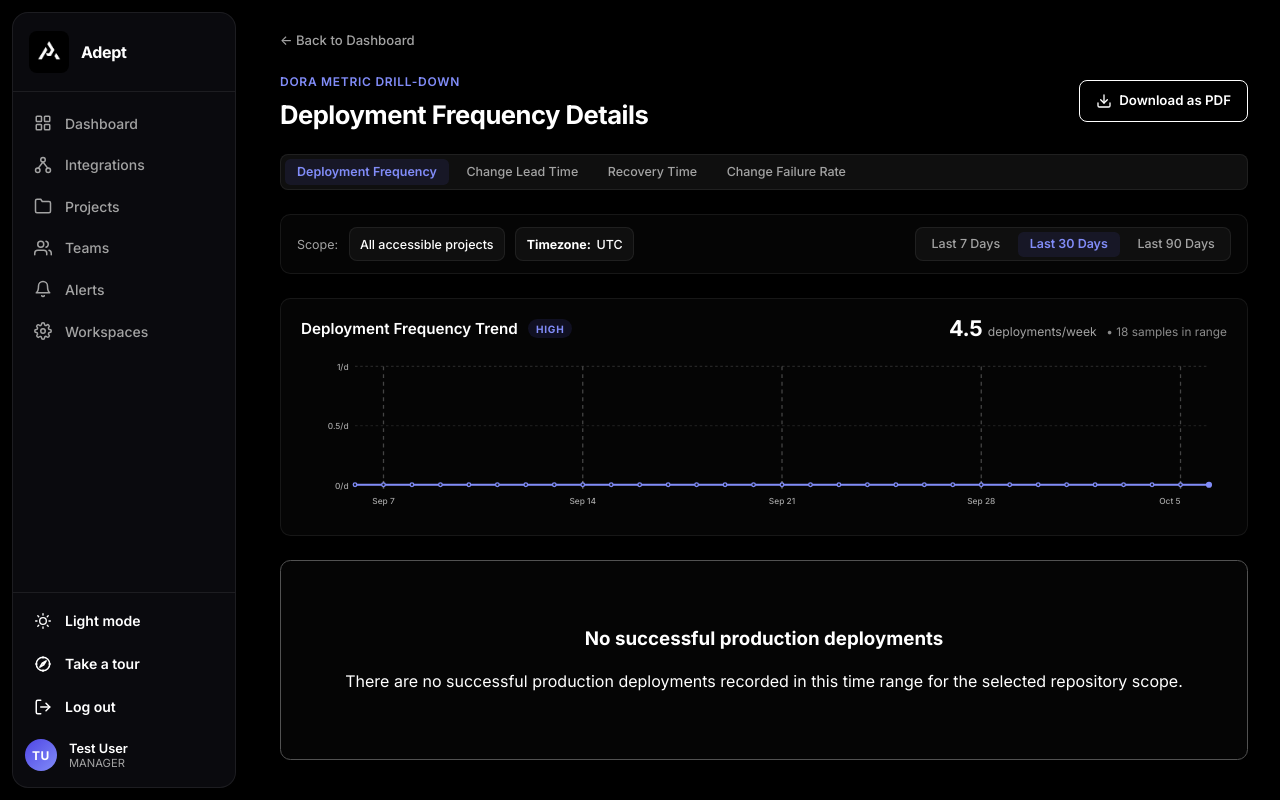
Test: MetricDetailsPage › switches to Change Lead Time tab and renders CLT table
Expected: the heading "Deployment Frequency Details" is shown, [280,99,648,130]
Click the tab "Change Lead Time". click: (522, 172)
box: [454,159,590,185]
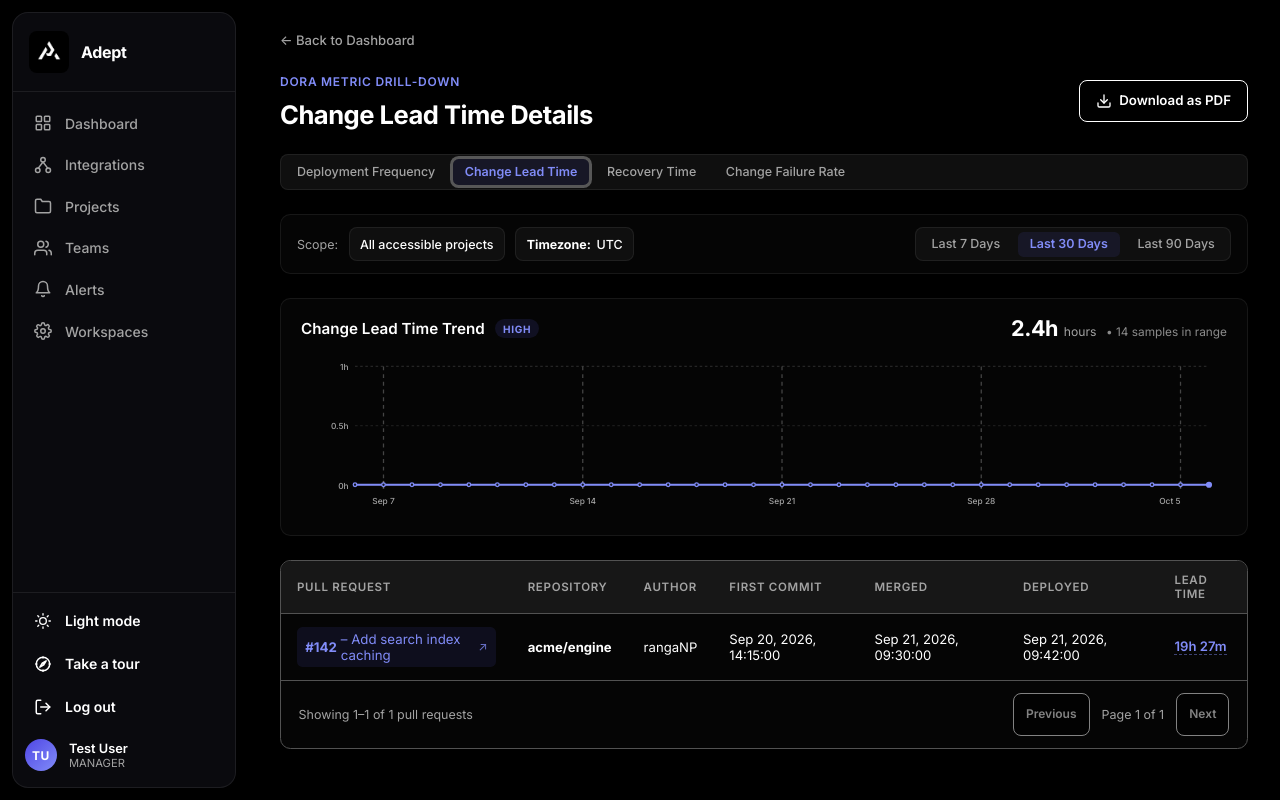
Expected: the heading "Change Lead Time Details" is shown, [280,99,593,130]
Expected: the text "acme/engine" is shown, [528,639,612,655]
Expected: the text "rangaNP" is shown, [628,613,713,680]
